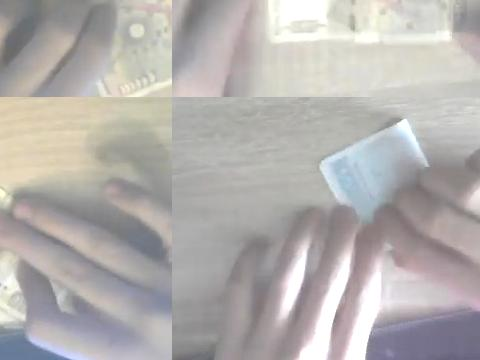10leva: (266, 0, 465, 46)
20leva: (318, 117, 429, 221)
